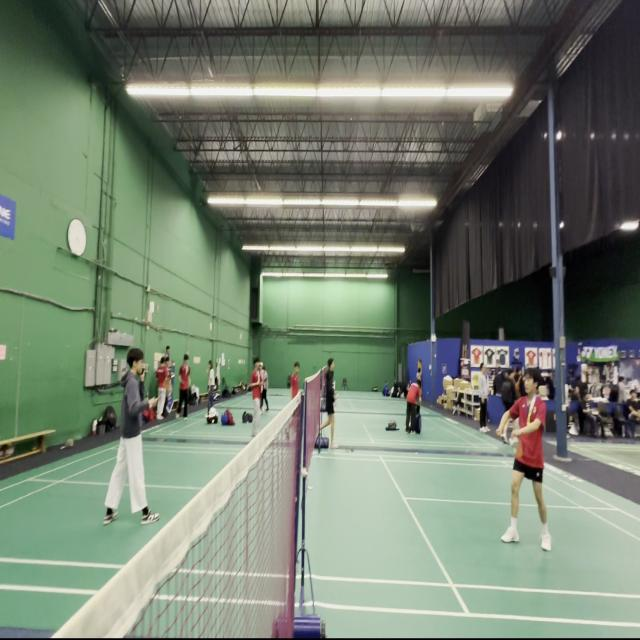shuttlecock: (508, 438, 516, 448)
